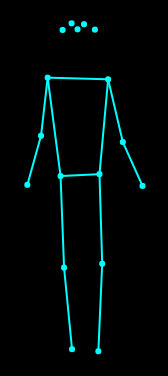mountain: (20, 17, 147, 357)
